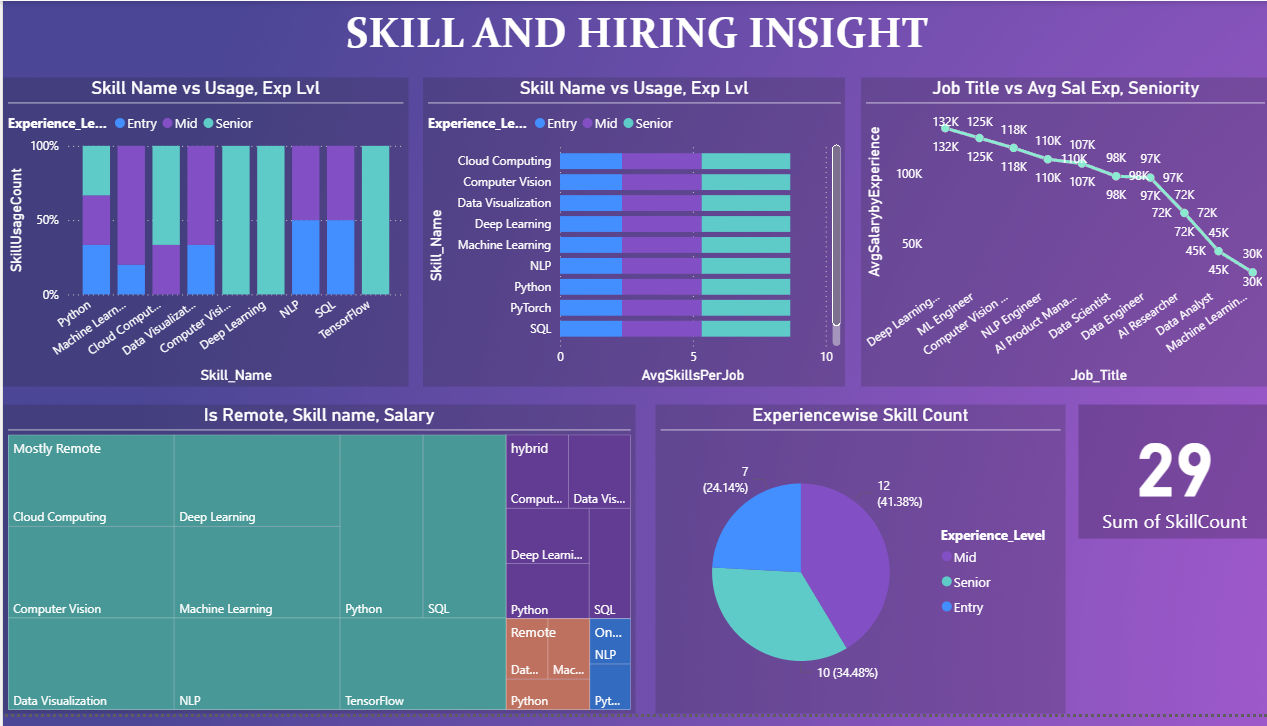

What the dashboard file says about the page in this screenshot:
{"tool":"powerbi","page":{"name":"Skill and Hiring Insight","canvas":[1280,720],"ordinal":3},"visuals":[{"type":"textbox","box":[0,0,1280,76.9],"z":0},{"type":"hundredPercentStackedColumnChart","title":"Skill Name vs Usage, Exp Lvl","fields":{"Series":["Fact_Jobs.Experience_Level"],"Category":["Dim_Skills.Skill_Name"],"Y":["Dim_Skills.SkillUsageCount"]},"box":[0,76.9,409.2,312.3],"z":1},{"type":"treemap","title":"Is Remote, Skill name, Salary","fields":{"Values":["Sum(Fact_Jobs.Salary_USD)"],"Group":["Fact_Jobs.IsRemote"],"Details":["Dim_Skills.Skill_Name"]},"box":[0,407.7,638.5,312.3],"z":2},{"type":"card","title":"Total Jobs","fields":{"Values":["Sum(Fact_Jobs.SkillCount)"]},"box":[1086.2,407.7,193.8,135.4],"z":3},{"type":"lineChart","title":"Job Title vs Avg Sal Exp, Seniority","fields":{"Series":["Dim_Skills.Skill_Name"],"Category":["Fact_Jobs.Job_Title"],"Y":["Fact_Jobs.AvgSalarybyExperience"]},"box":[866.2,76.9,413.8,312.3],"z":4},{"type":"barChart","title":"Skill Name vs Usage, Exp Lvl","fields":{"Category":["Dim_Skills.Skill_Name"],"Series":["Fact_Jobs.Experience_Level"],"Y":["Fact_Job_Skills.AvgSkillsPerJob"]},"box":[424.6,76.9,426.2,312.3],"z":5},{"type":"pieChart","title":"Experiencewise Skill Count","fields":{"Y":["Dim_Skills.SkillUsageCount"],"Category":["Fact_Jobs.Experience_Level"]},"box":[658.5,407.7,413.8,312.3],"z":6}]}

Visuals, with their boxes in screenshot pixels (x1, y1, x2, y2), scaled from the page's 1280x720 canvas onto the 1267x726 screenshot:
textbox: <bbox>0, 0, 1266, 78</bbox>
"Skill Name vs Usage, Exp Lvl" hundredPercentStackedColumnChart: <bbox>0, 78, 405, 392</bbox>
"Is Remote, Skill name, Salary" treemap: <bbox>0, 411, 632, 725</bbox>
"Total Jobs" card: <bbox>1075, 411, 1266, 548</bbox>
"Job Title vs Avg Sal Exp, Seniority" lineChart: <bbox>857, 78, 1266, 392</bbox>
"Skill Name vs Usage, Exp Lvl" barChart: <bbox>420, 78, 842, 392</bbox>
"Experiencewise Skill Count" pieChart: <bbox>652, 411, 1061, 725</bbox>
